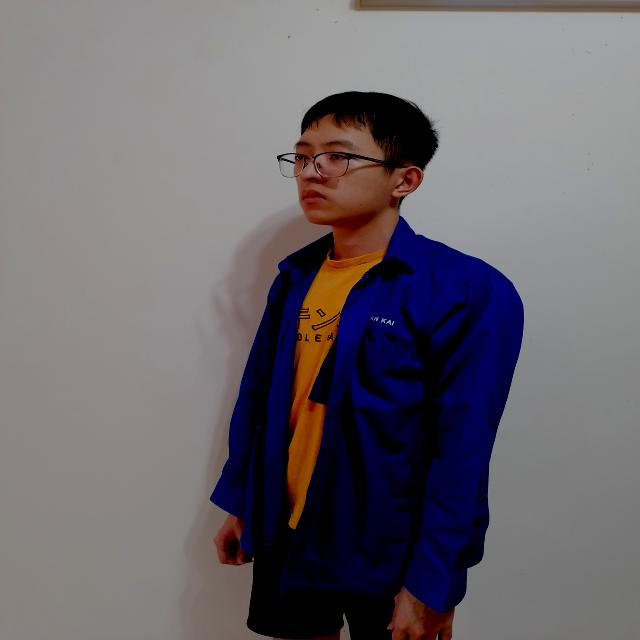person_with_labcoat: (211, 91, 523, 640)
